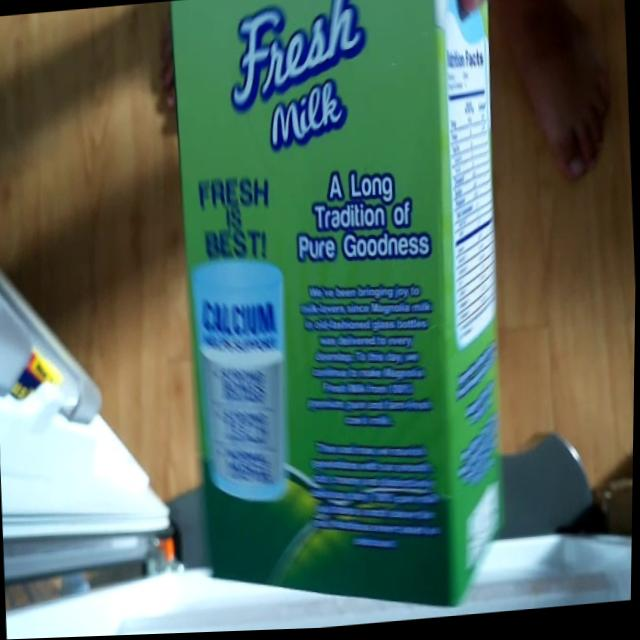milk: (163, 0, 532, 635)
